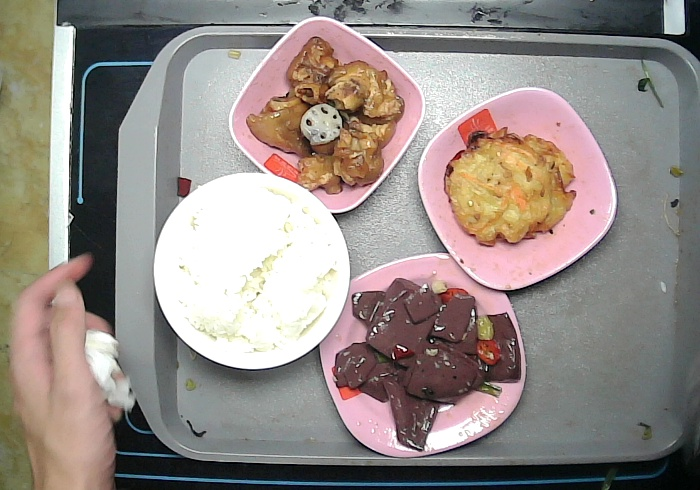SHKJ-Fan_Wan: (151, 169, 353, 372)
SHKJ-Fen_Se_Cai_Die: (413, 83, 619, 292)
SHKJ-Fen_Se_Si_Fang_Cai_Die: (315, 249, 529, 462)
SHKJ-Fen_Se_Xiao_Fang_Die: (226, 14, 425, 216)
